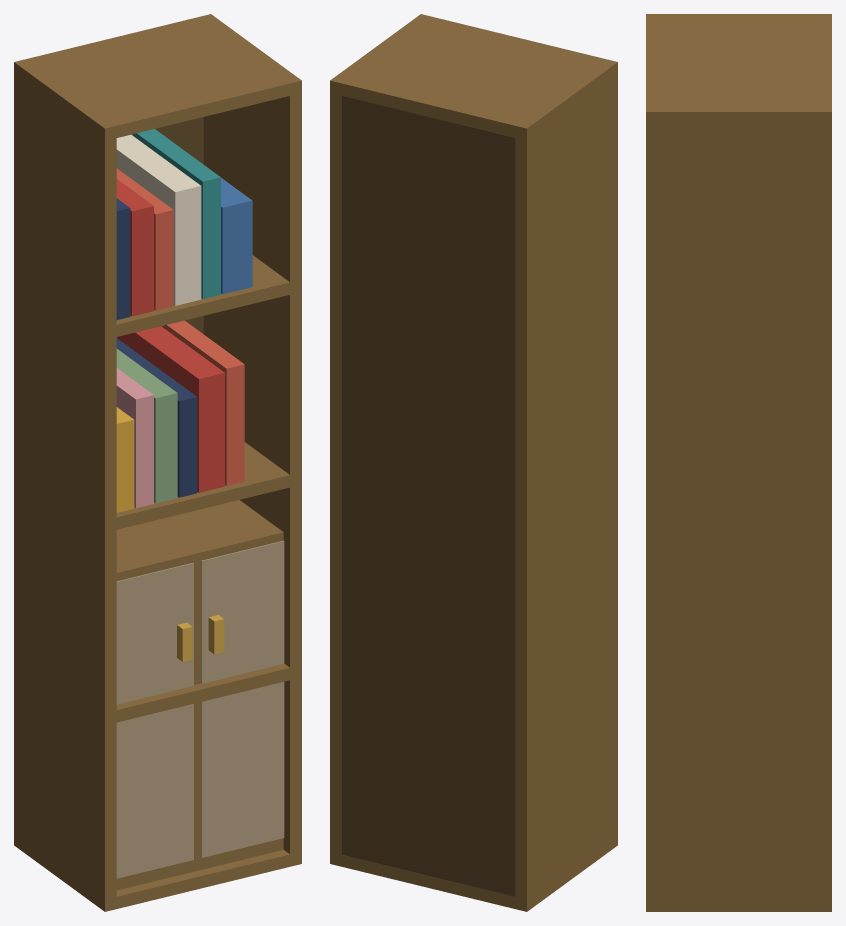
The model's file is closed_bookcase.glb.
3 views of the same model, side by side, from view 1: azimuth 30°, elevation 25°; view 2: azimuth 150°, elevation 25°; view 3: azimuth 270°, elevation 25° (orthographic). The views are drawn at different scales.
Visible parts, largest first — view 1: closed_bookcase_Body; view 2: closed_bookcase_Body; view 3: closed_bookcase_Body.
Part boxes in pixels (x1,y1,x2,y2): closed_bookcase_Body: (14,14,301,911); closed_bookcase_Body: (330,14,617,911); closed_bookcase_Body: (646,14,831,911).
Size of the model in its own units: 0.5 by 1.9 by 0.4.
